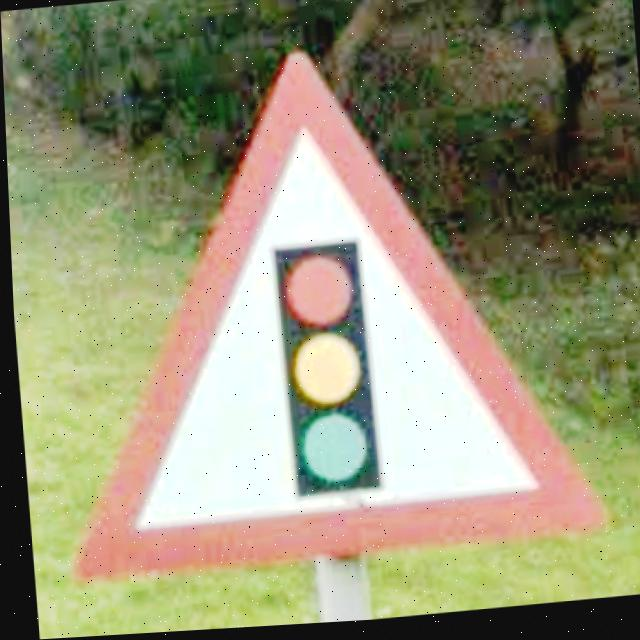signalahead: (70, 59, 599, 583)
